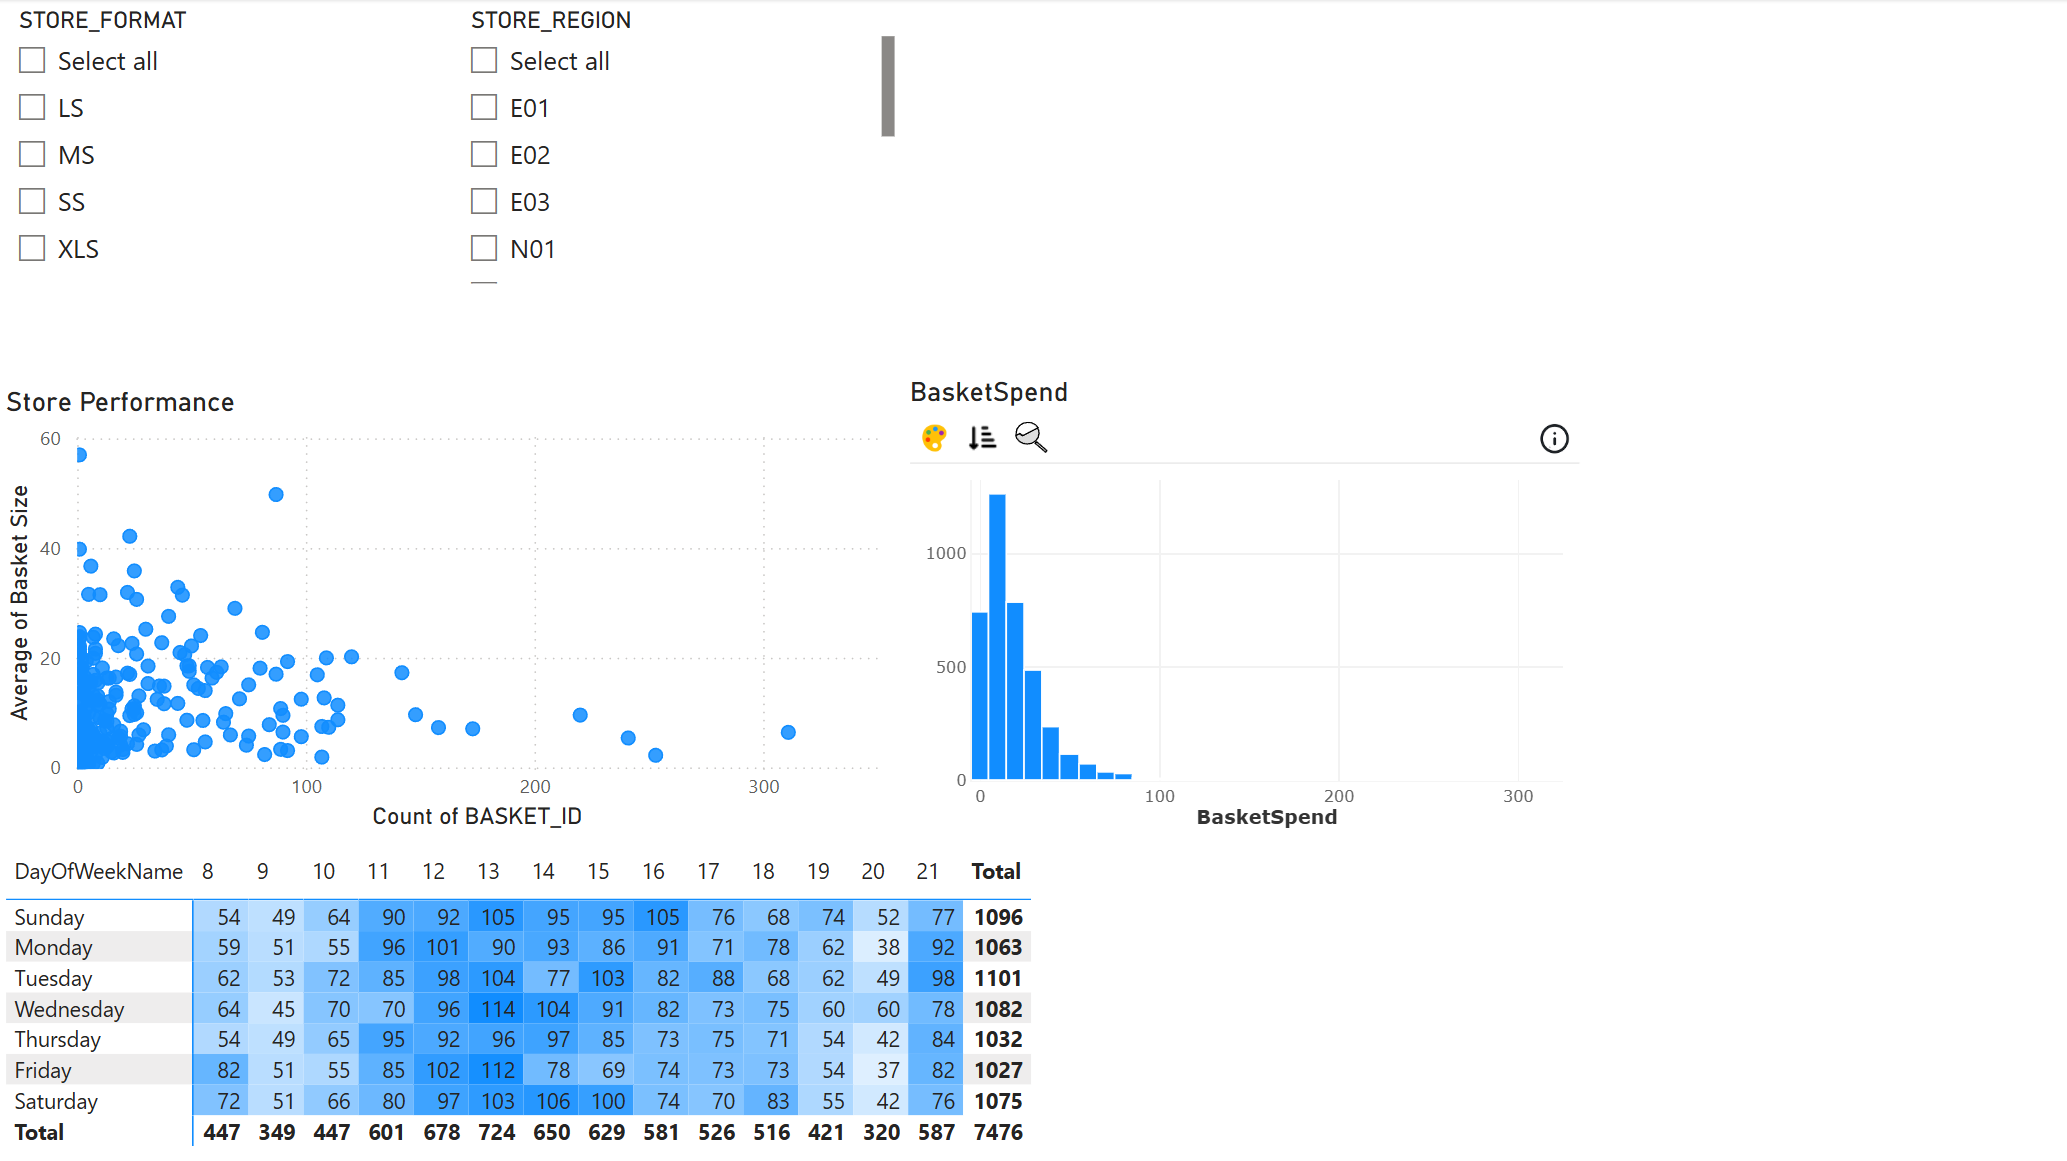

The page's visual inventory and layout, read from the dashboard file:
{"tool":"powerbi","page":{"name":"Store Overview","canvas":[1280,720],"ordinal":2},"visuals":[{"type":"scatterChart","title":"Store Performance","fields":{"X":["basket.BASKET_ID"],"Y":["Avg(basket.BasketSpend)"],"Category":["stores.STORE_CODE"]},"box":[0,238.7,559.4,279.7],"z":0},{"type":"slicer","fields":{"Values":["stores.STORE_FORMAT"]},"box":[0,0,279.7,180.9],"z":1000},{"type":"slicer","fields":{"Values":["stores.STORE_REGION"]},"box":[279.7,0,279.7,180.9],"z":2000},{"type":"histogramF963F133BA02A0B35D286F09F80E9C78","fields":{"col_2":["basket.BasketSpend"]},"box":[559.4,232.6,424.1,291.9],"z":3000},{"type":"pivotTable","fields":{"Rows":["Date Table.DayOfWeekName"],"Columns":["basket.SHOP_HOUR"],"Values":["CountNonNull(basket.BASKET_ID)"]},"box":[0,524.5,652.2,196.1],"z":4000}]}

Visuals, with their boxes in screenshot pixels (x1, y1, x2, y2), scaled from the page's 1280x720 canvas onto the 2067x1161 screenshot:
"Store Performance" scatterChart: box=[0, 385, 903, 836]
slicer - stores.STORE_FORMAT: box=[0, 0, 452, 292]
slicer - stores.STORE_REGION: box=[452, 0, 903, 292]
histogramF963F133BA02A0B35D286F09F80E9C78 - basket.BasketSpend: box=[903, 375, 1588, 846]
pivotTable - Date Table.DayOfWeekName x basket.SHOP_HOUR: box=[0, 846, 1053, 1160]
